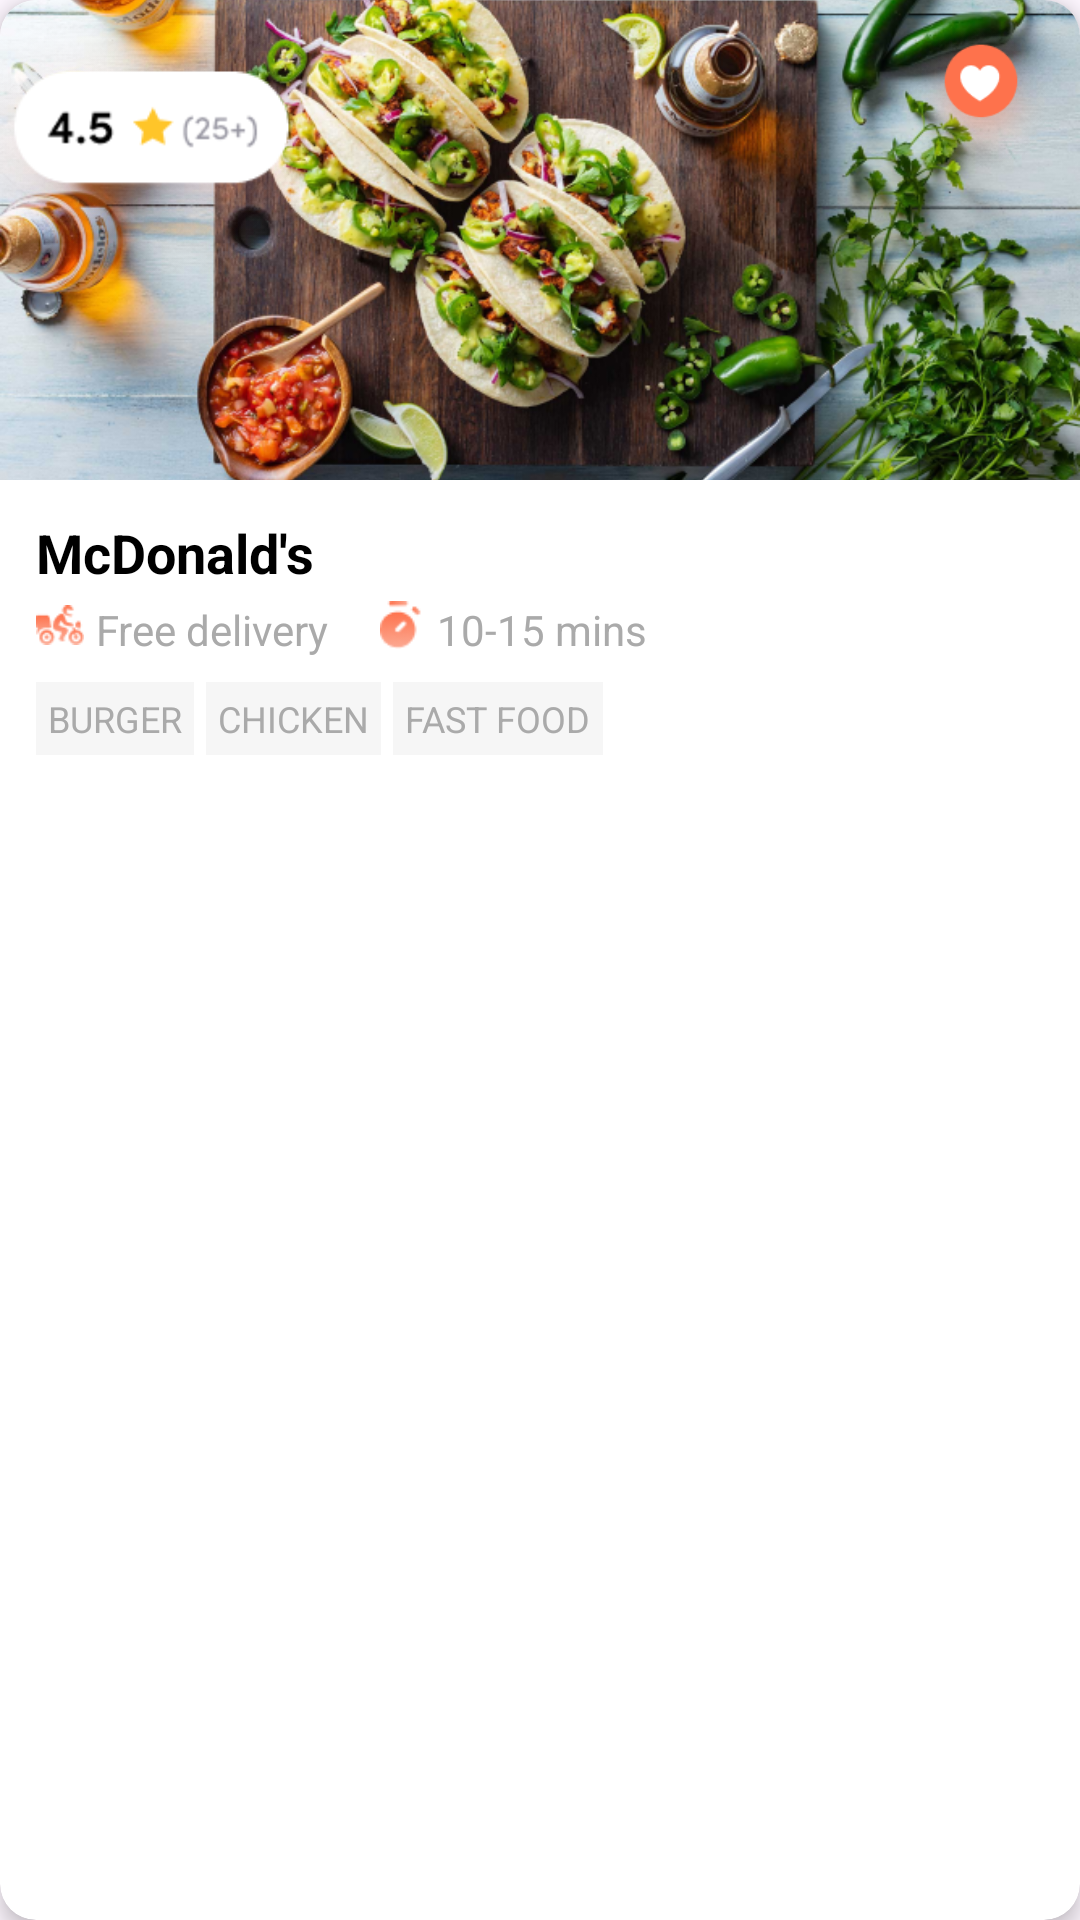

Where icons sit on this 1080*1920 app screen, as box=[x1, y1, x2, y2]:
time: box=[380, 601, 421, 648]
